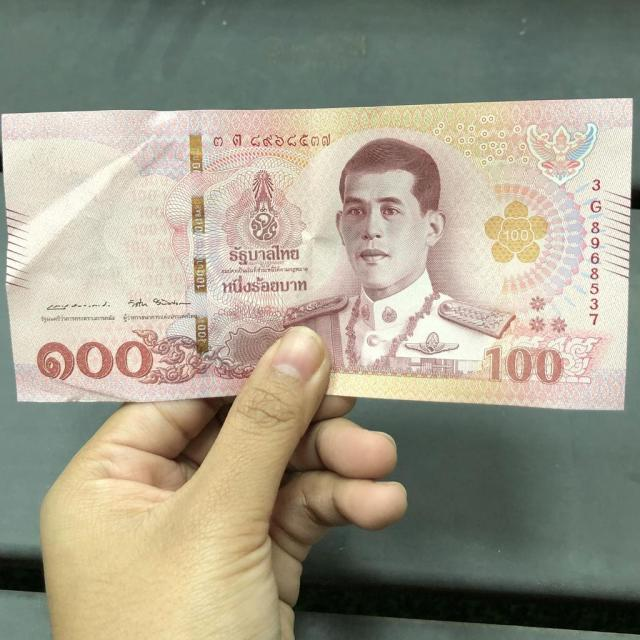THAI100: (2, 99, 634, 409)
